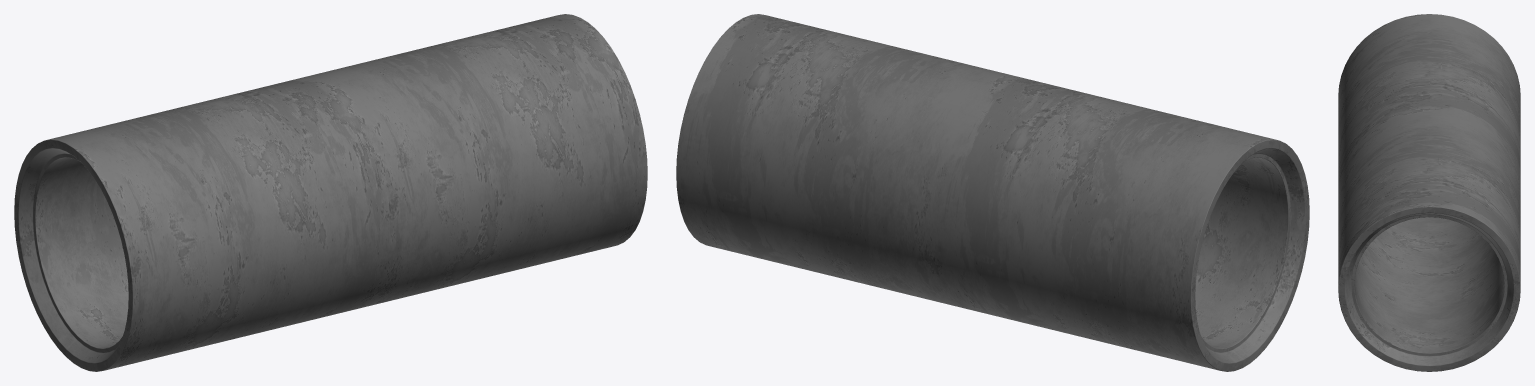
The model's file is ConcreteTube_SM.FBX.
3 views of the same model, side by side, from view 1: azimuth 30°, elevation 25°; view 2: azimuth 150°, elevation 25°; view 3: azimuth 270°, elevation 25° (orthographic). The views are drawn at different scales.
Visible parts, largest first — view 1: ConcreteTube_SM; view 2: ConcreteTube_SM; view 3: ConcreteTube_SM.
Boxes of the visible parts, x1,y1,x2,y2 form: ConcreteTube_SM: [14, 14, 647, 371]; ConcreteTube_SM: [676, 14, 1309, 371]; ConcreteTube_SM: [1338, 14, 1520, 371].
Size of what is drawn, in the model's own units: 1000 by 400 by 400.
1 material, 1 textured.
